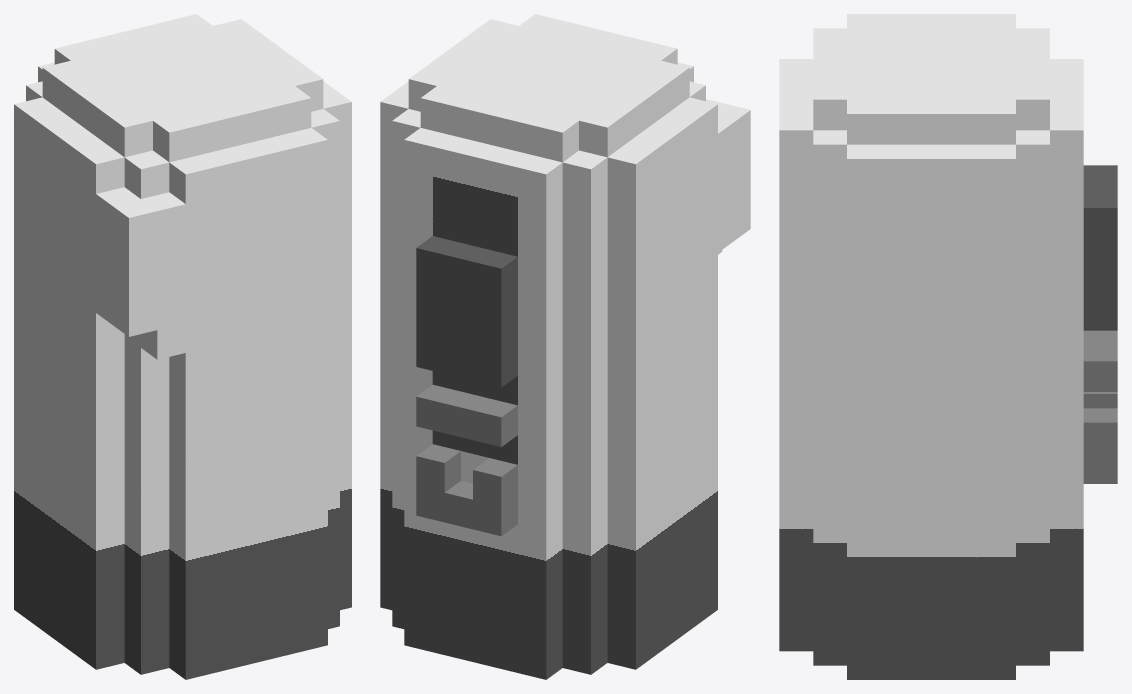
The model's file is noga_1_v2.dae.
3 views of the same model, side by side, from view 1: azimuth 30°, elevation 25°; view 2: azimuth 150°, elevation 25°; view 3: azimuth 270°, elevation 25° (orthographic). The views are drawn at different scales.
Visible parts, largest first — view 1: Content; view 2: Content; view 3: Content.
Part boxes in pixels (box(x1,y1,x2,y2)): Content: box(14, 14, 351, 679); Content: box(380, 14, 750, 679); Content: box(779, 14, 1117, 679).
Size of the model in its own units: 9 by 18 by 10.
1 material, 1 textured.
